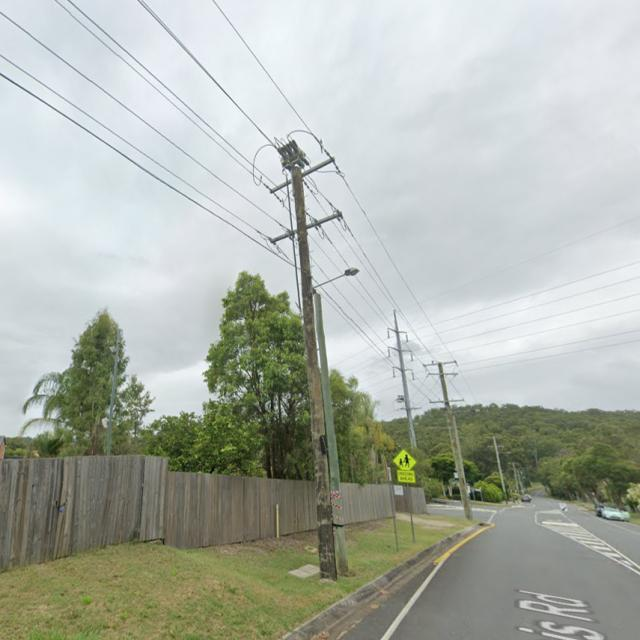HV-switch: (273, 139, 310, 171)
HV-transmission: (264, 148, 342, 204), (386, 310, 415, 380), (422, 360, 459, 368)
crossarm: (270, 156, 336, 194), (271, 211, 343, 244), (428, 399, 465, 404), (424, 362, 456, 367), (388, 327, 407, 334), (391, 366, 413, 372), (387, 347, 412, 352), (427, 372, 458, 376), (397, 406, 420, 411)
streetlight: (312, 268, 360, 290)
timber-pole: (291, 165, 336, 583), (315, 294, 349, 575), (438, 362, 473, 518), (394, 312, 418, 449), (492, 436, 508, 504)
